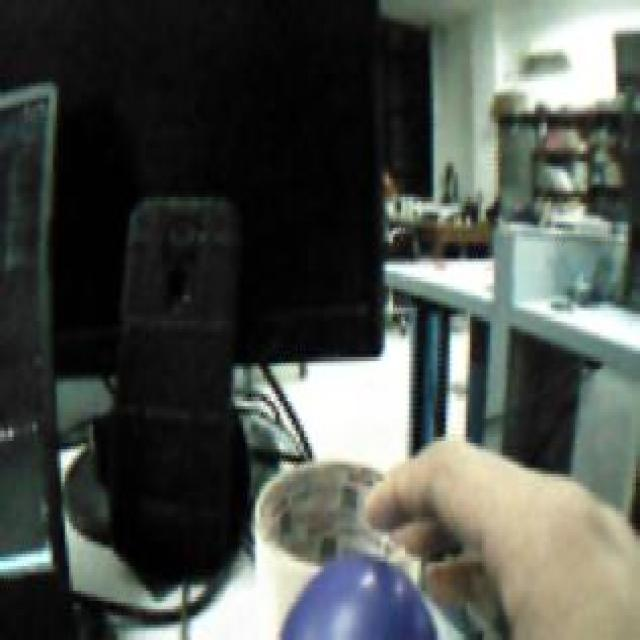BallPurple: (270, 553, 447, 640)
